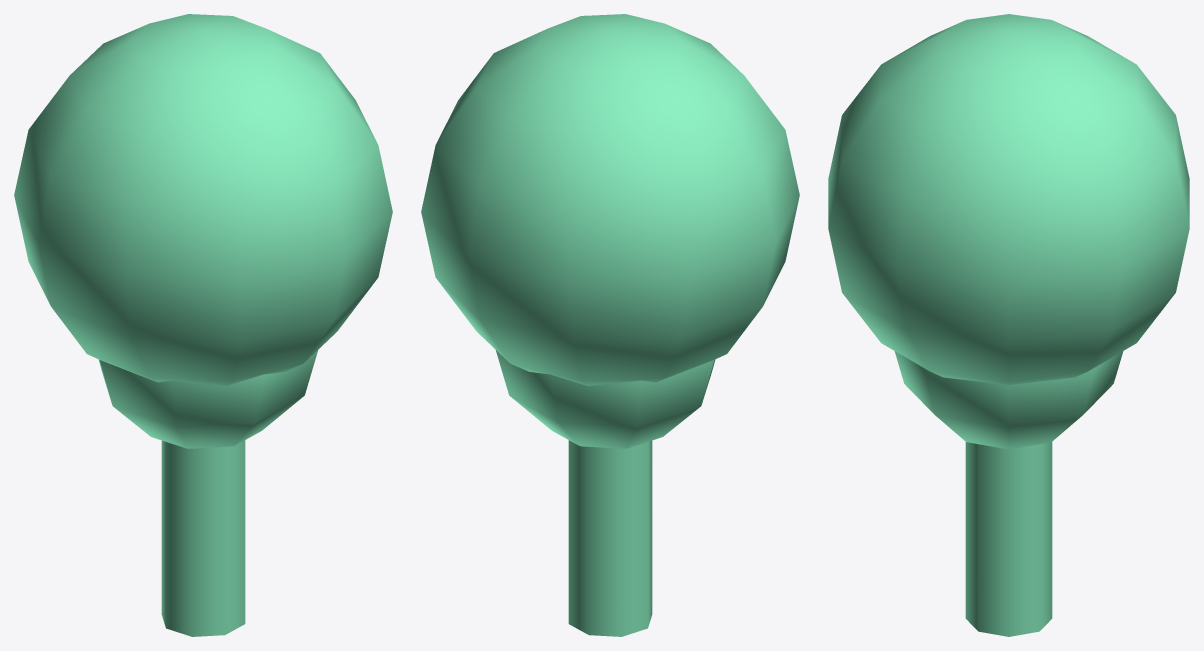
Rendered from flora.glb.
3 views of the same model, side by side, from view 1: azimuth 30°, elevation 25°; view 2: azimuth 150°, elevation 25°; view 3: azimuth 270°, elevation 25° (orthographic).
Size of the model in its own units: 0.44 by 0.75 by 0.4185.
